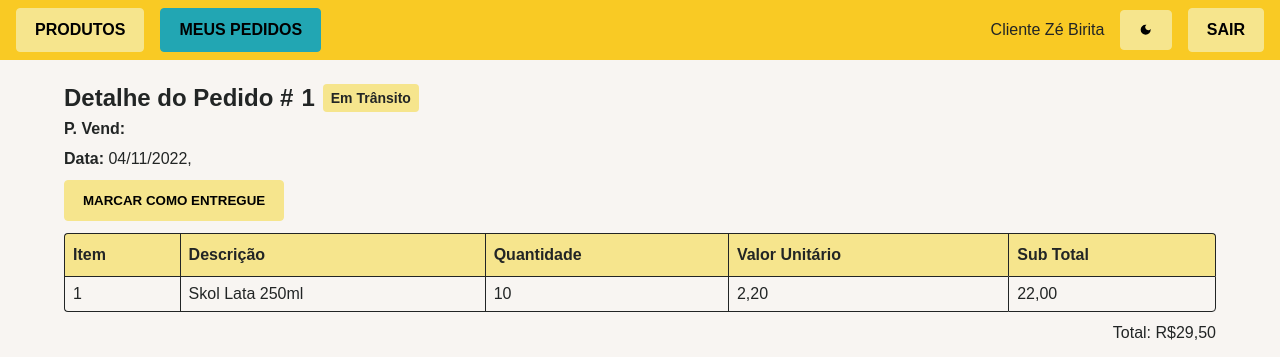
Test: Customer Order Detail Page › Test change status order functionality › should be disable when status order change to "Entregue"
The width and height of the screenshot is (1280, 357).
Click the button "Marcar Como Entregue".
click(174, 200)  # box [64, 180, 284, 221]
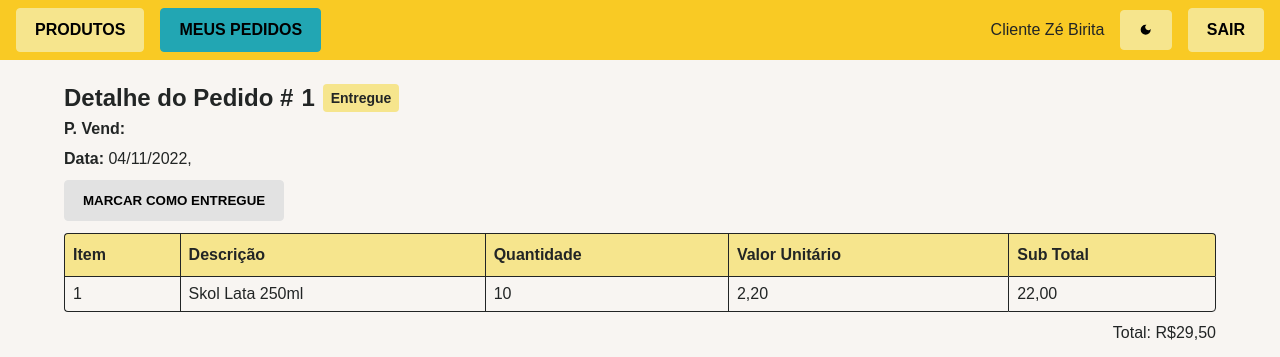
Expected: the button "Marcar Como Entregue" is disabled, [64, 180, 284, 221]
